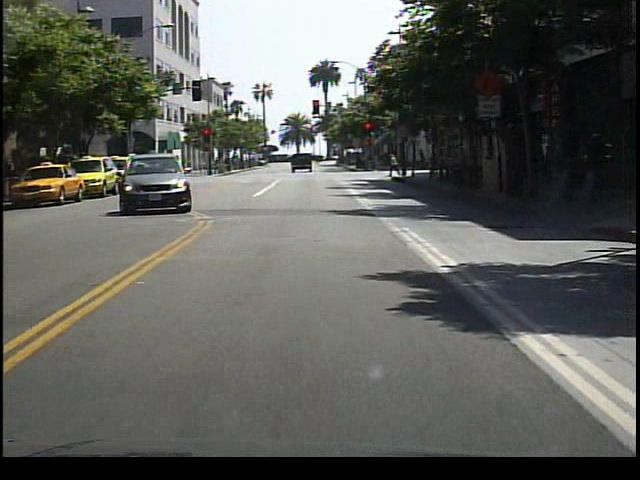person: (389, 150, 404, 177)
